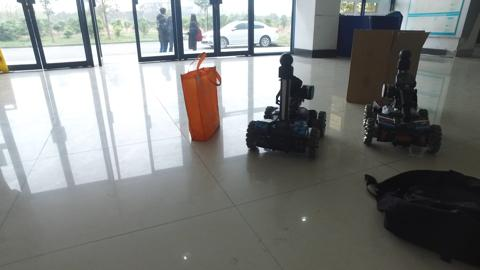bag: (177, 50, 219, 142)
chariot: (247, 52, 330, 161), (366, 50, 443, 153)
